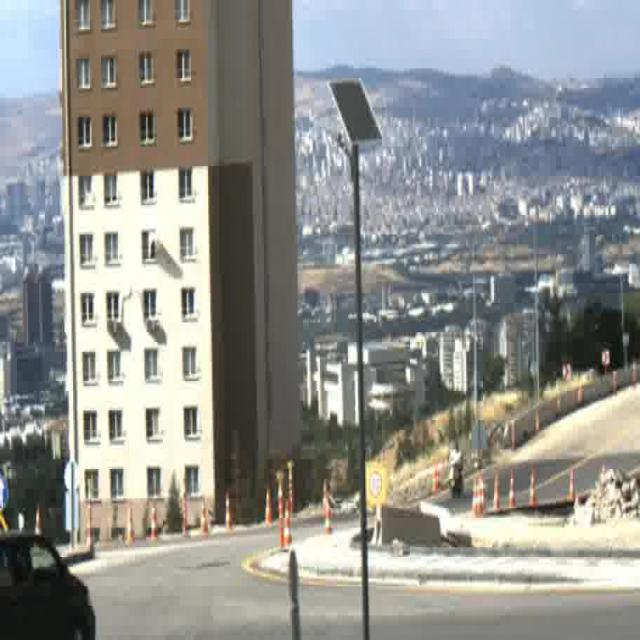Car: (0, 524, 98, 640)
Motorcycle: (449, 436, 464, 496)
